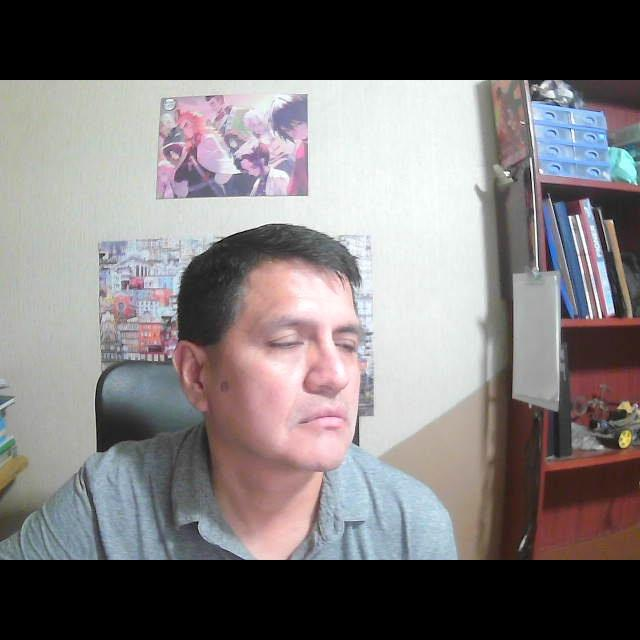cesar: (158, 204, 384, 493)
